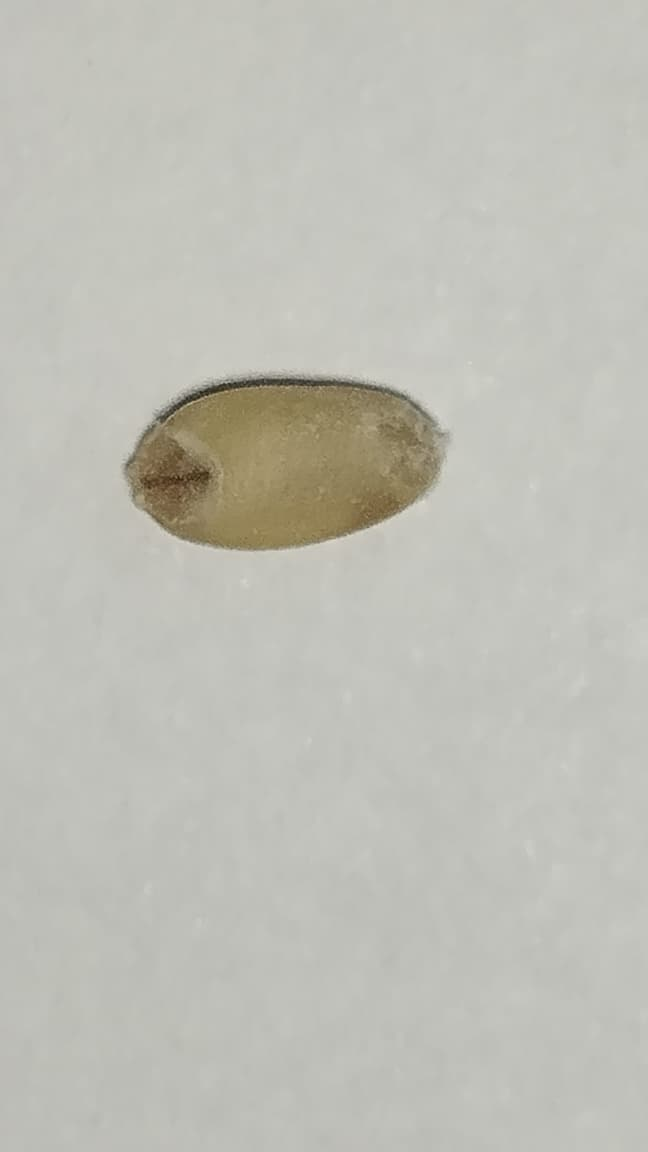damage: (129, 376, 433, 546)
insectdamage: (125, 425, 223, 545)
